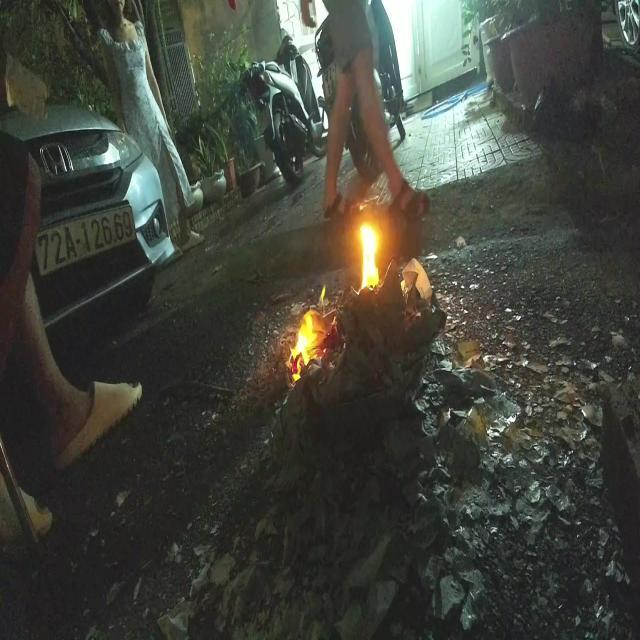Fire: (280, 283, 333, 384), (354, 222, 382, 292)
